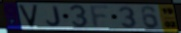3: (69, 3, 90, 30), (118, 5, 138, 30)
6: (140, 5, 160, 30)
F: (89, 5, 112, 29)
J: (45, 6, 62, 28)
V: (18, 4, 38, 28)
